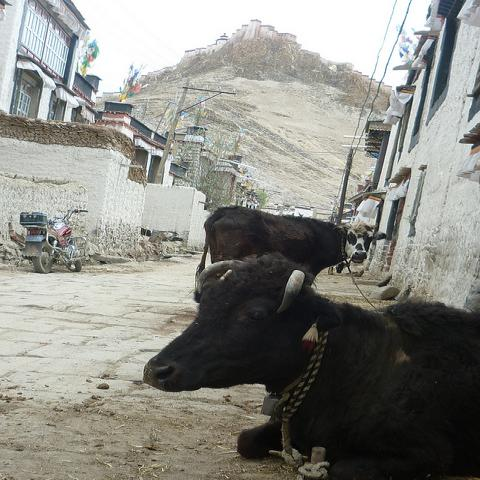motorcycle: (24, 226, 86, 274)
